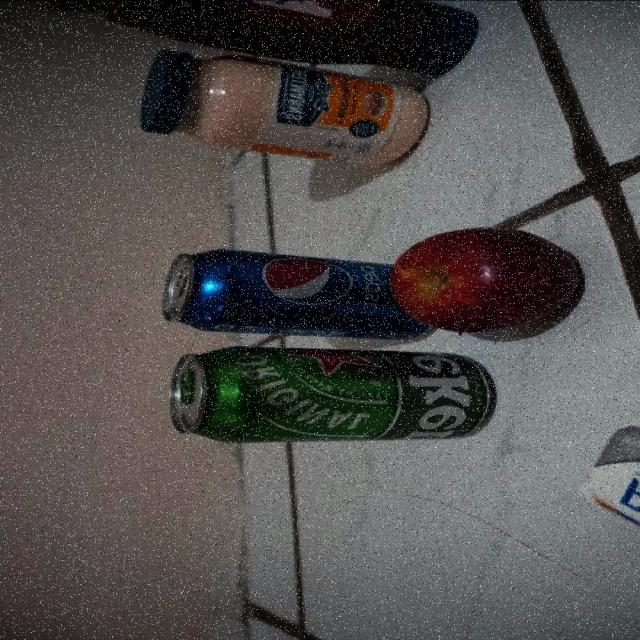Apple: (385, 220, 576, 335)
BeerCan: (164, 343, 501, 444)
Ketchup: (109, 0, 478, 78)
Mayonnaise: (136, 55, 424, 165)
Soap: (582, 418, 640, 534)
SodaCan: (160, 249, 407, 341)
